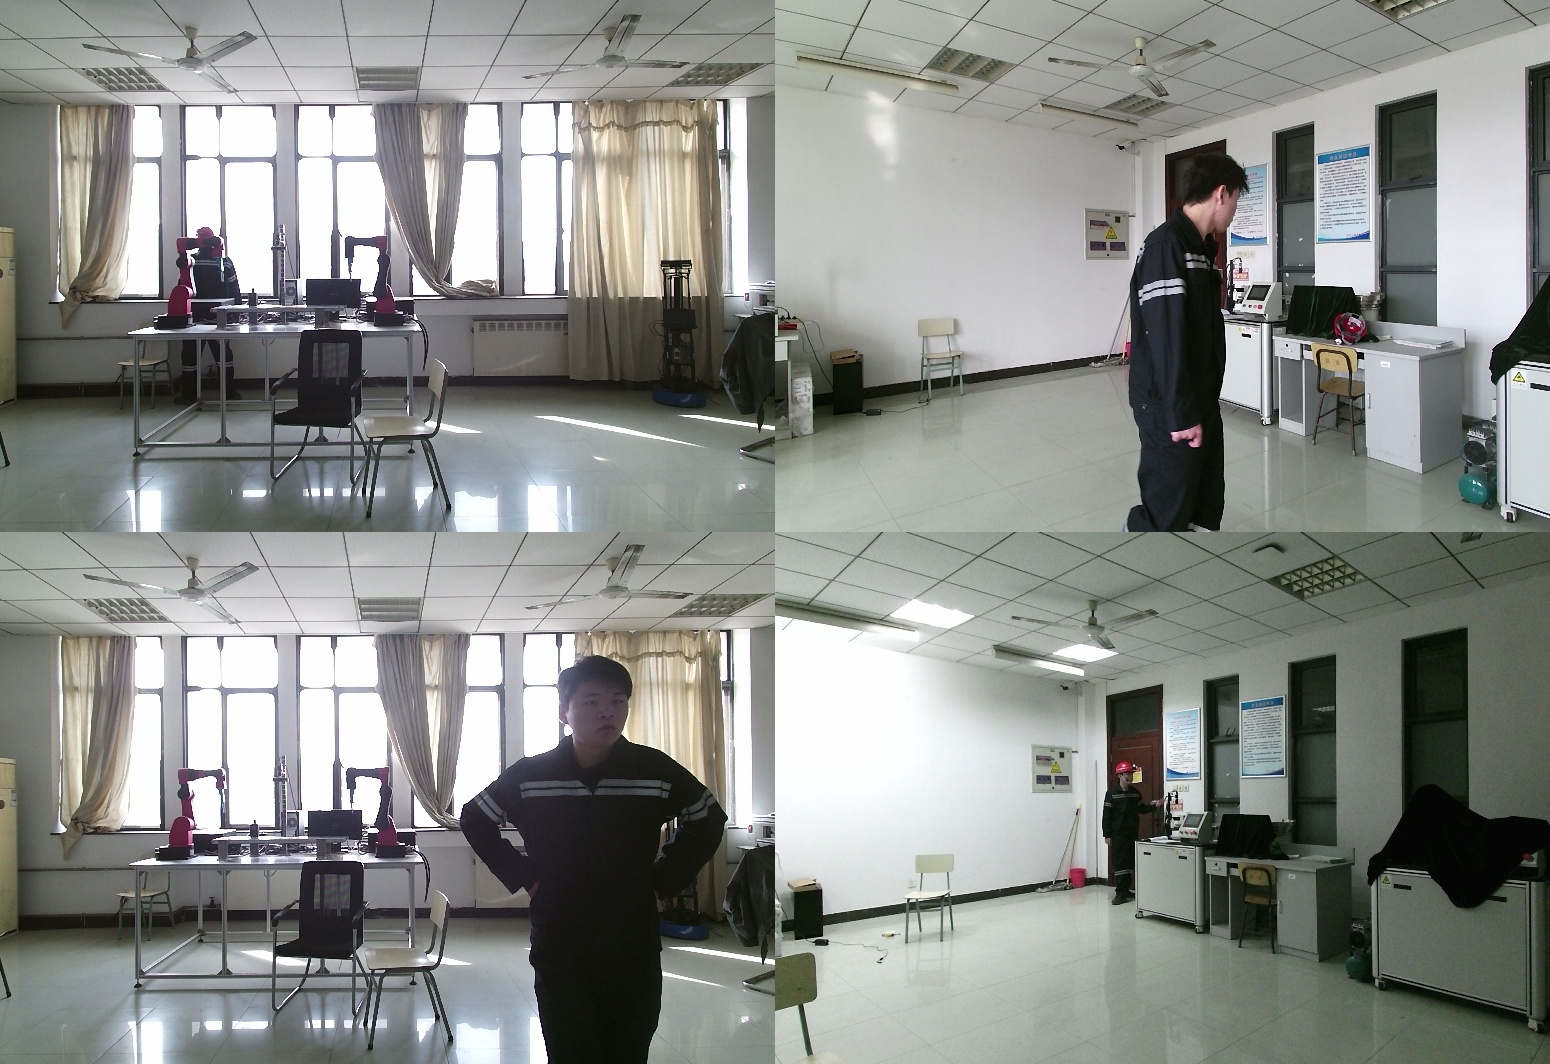person: (472, 660, 737, 1064), (1123, 148, 1260, 532), (177, 226, 240, 409), (1101, 765, 1154, 906)
